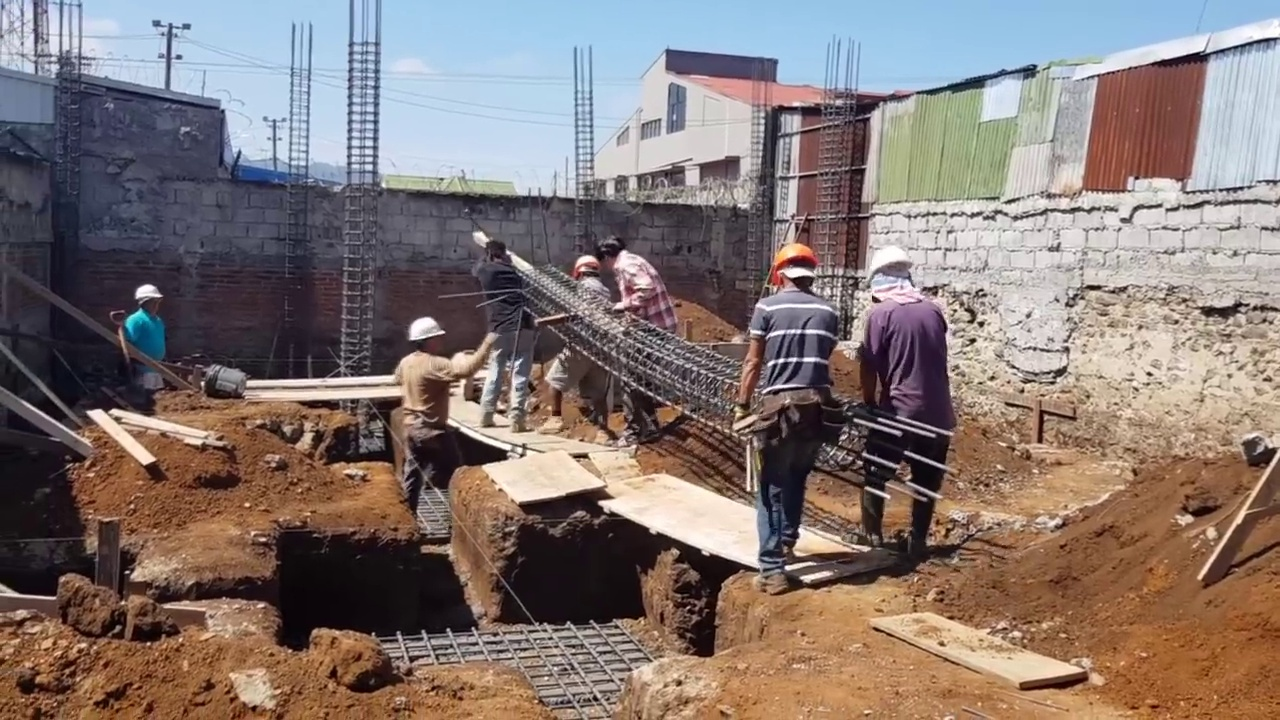helmet: (770, 242, 822, 285), (862, 248, 916, 287), (408, 319, 440, 345), (134, 287, 162, 306), (574, 257, 599, 276)
helmet-off: (588, 240, 623, 273), (483, 238, 508, 265)
helmet-on: (864, 250, 924, 305), (771, 240, 823, 301), (407, 317, 446, 359), (133, 287, 162, 323), (571, 255, 601, 286)
person: (745, 244, 846, 578), (847, 255, 953, 573), (385, 317, 501, 509), (588, 240, 680, 450), (470, 237, 546, 435), (538, 255, 611, 437), (119, 286, 166, 390)
